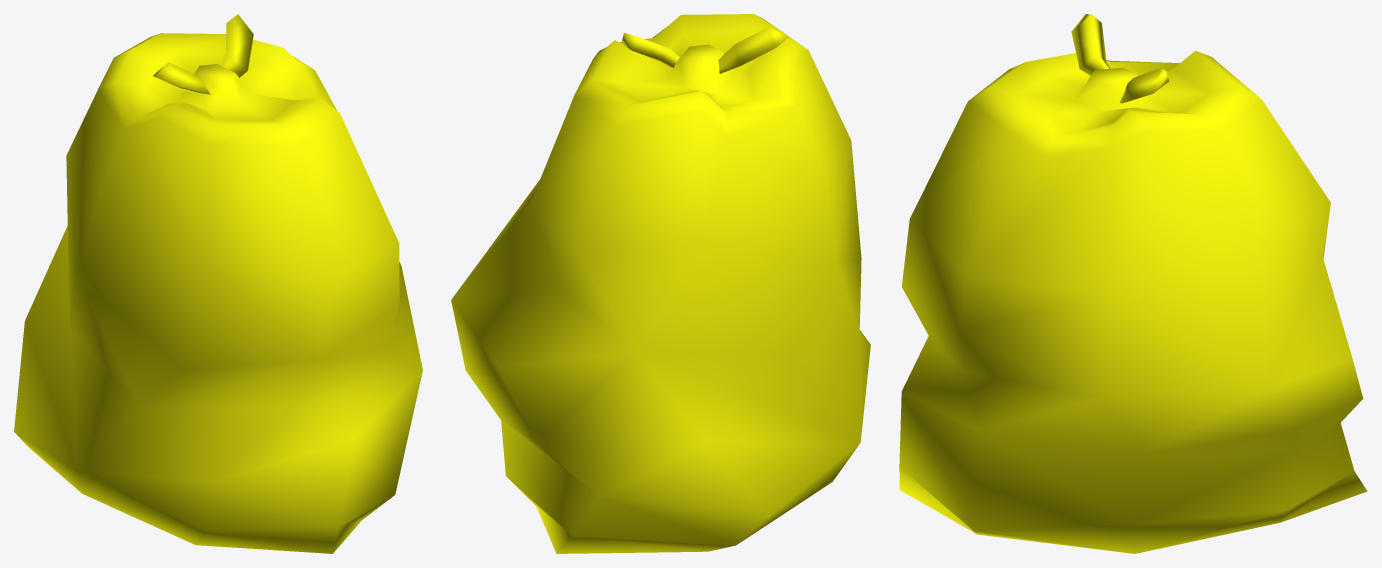
Rendered from BinBagClosed.glb.
3 renders of one model, left to right at view 1: azimuth 30°, elevation 25°; view 2: azimuth 150°, elevation 25°; view 3: azimuth 270°, elevation 25°, orthographic.
Parts seen in each view (by area): view 1: BinBagClosed; view 2: BinBagClosed; view 3: BinBagClosed.
Boxes of the visible parts, x1=… form: BinBagClosed: x1=14, y1=14, x2=422, y2=553; BinBagClosed: x1=451, y1=14, x2=870, y2=553; BinBagClosed: x1=899, y1=14, x2=1367, y2=553.
Size of the model in its own units: 0.8954 by 1.17 by 1.1.
Materials: 1 (1 with a texture image).
